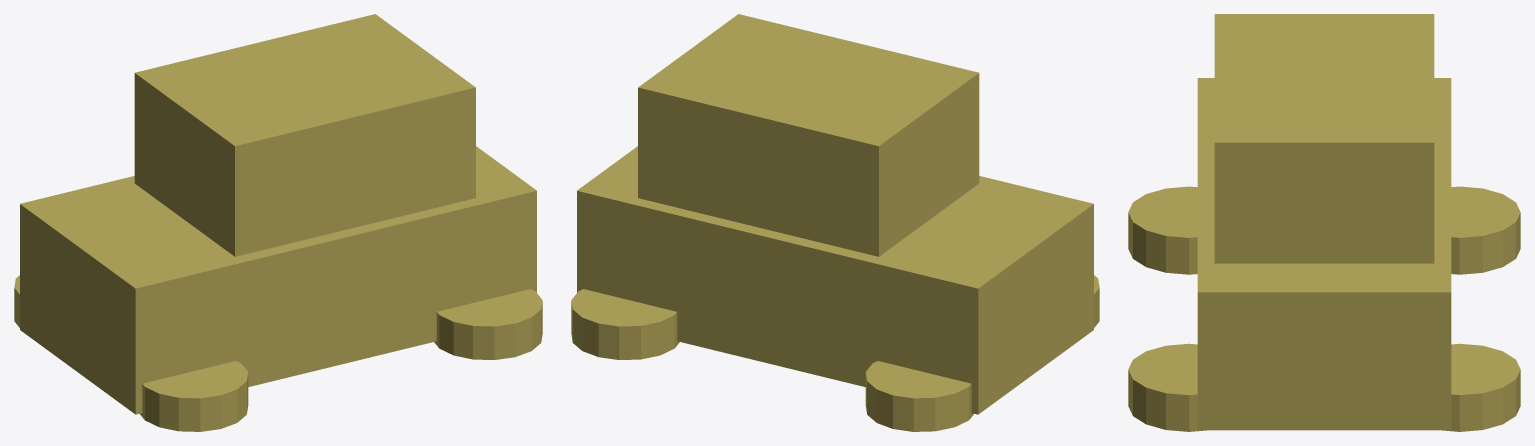
File: tech_126.glb
3 views of the same model, side by side, from view 1: azimuth 30°, elevation 25°; view 2: azimuth 150°, elevation 25°; view 3: azimuth 270°, elevation 25° (orthographic). The views are drawn at different scales.
Visible parts, largest first — view 1: world; view 2: world; view 3: world.
Part boxes in pixels (<box>): world: <box>14,14,542,431</box>; world: <box>571,14,1099,431</box>; world: <box>1128,14,1520,431</box>.
Bounding box in the file's own units: 1.5 × 0.86 × 1.16.
